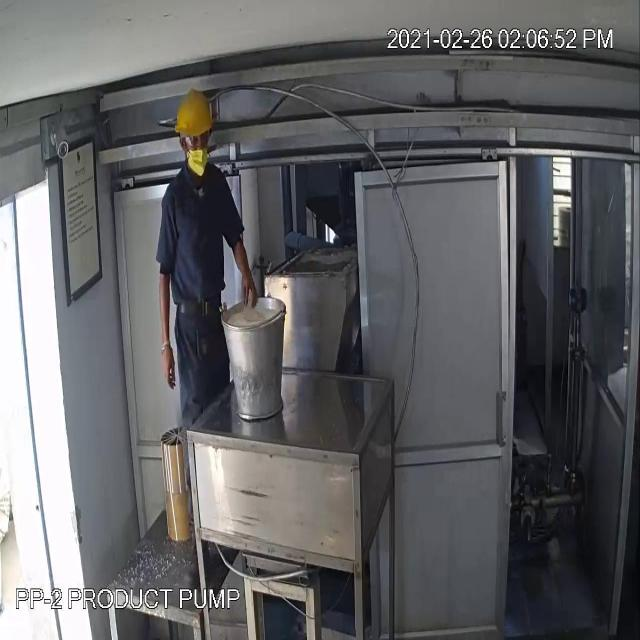helmet: (166, 82, 222, 145)
